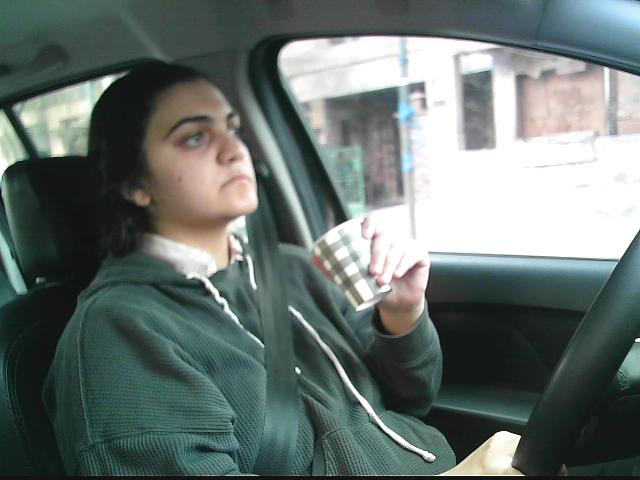Drinking: (308, 212, 398, 310)
